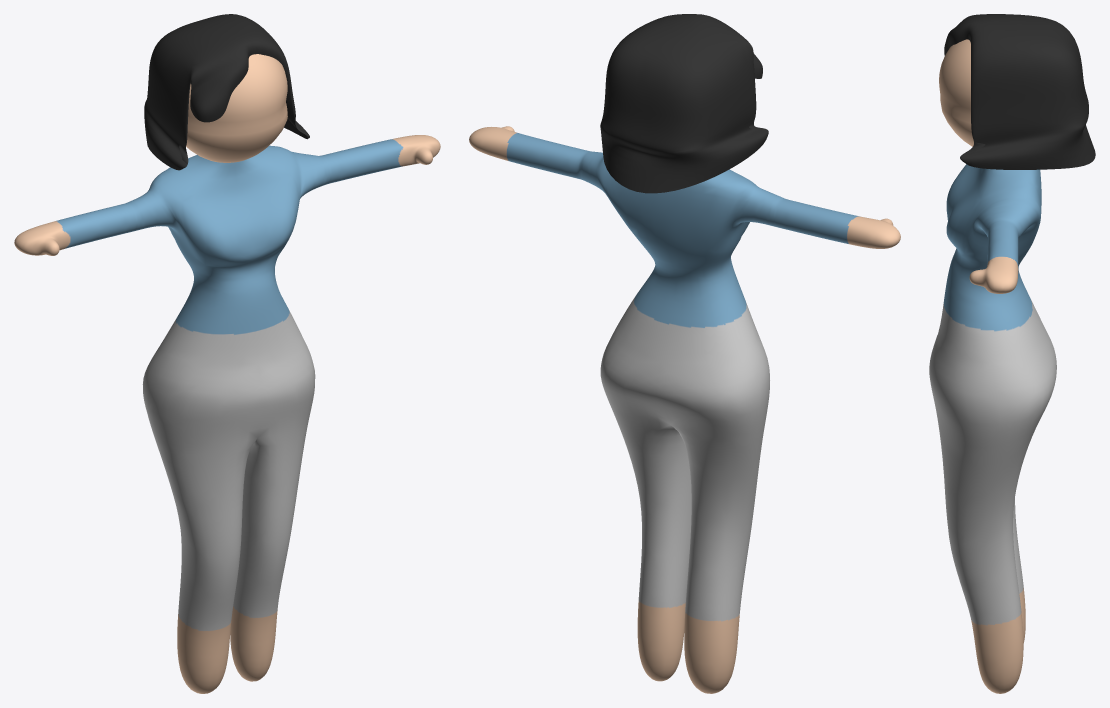
File: polter_momc4d.fbx
The picture shows the model from 3 angles, left to right: view 1: azimuth 30°, elevation 25°; view 2: azimuth 150°, elevation 25°; view 3: azimuth 270°, elevation 25°; orthographic projection.
Parts seen in each view (by area): view 1: Body, Cube, Head; view 2: Body, Cube; view 3: Body, Cube, Head.
Boxes of the visible parts, x1,y1,x2,y2 form: Body: (14, 135, 440, 693); Cube: (144, 14, 309, 170); Head: (186, 54, 287, 162); Body: (469, 126, 900, 693); Cube: (600, 14, 768, 193); Body: (929, 164, 1056, 693); Cube: (944, 14, 1095, 169); Head: (939, 39, 973, 146).
Size of the model in its own units: 115 by 170 by 38.98.
Materials: 3 (1 with a texture image).
